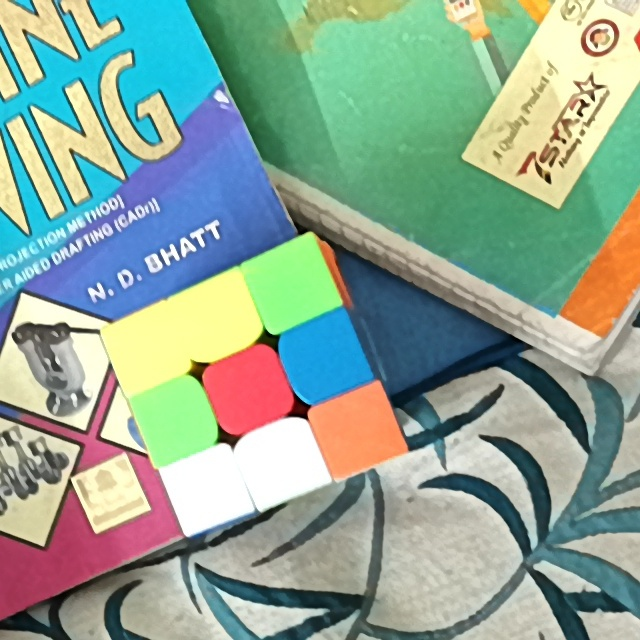tile: (331, 400, 387, 460), (263, 257, 321, 314), (177, 460, 235, 517), (297, 329, 354, 386), (219, 364, 277, 416), (148, 394, 204, 446), (119, 324, 176, 374), (256, 439, 309, 491), (190, 293, 244, 341)
